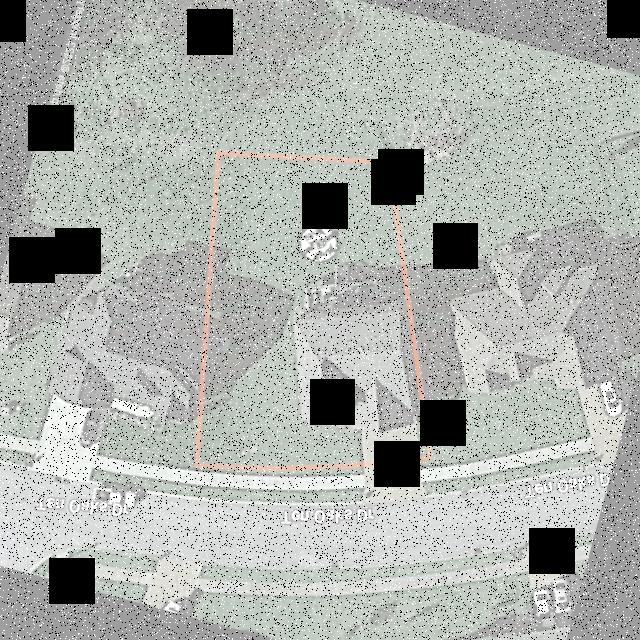Driveway: (359, 428, 418, 457)
Extra Driveway: (357, 459, 425, 502)
Extra Lawn: (192, 484, 365, 502), (424, 478, 437, 492), (421, 458, 431, 467)
Extra Sidewalk: (193, 469, 364, 490), (421, 467, 433, 481)
House: (292, 262, 417, 434)
Other: (298, 223, 337, 261)
